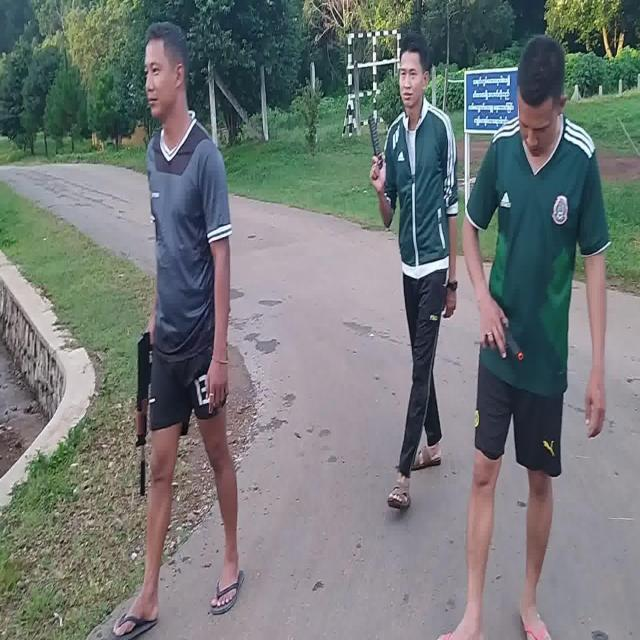gun: (138, 332, 153, 494), (503, 323, 523, 361)
